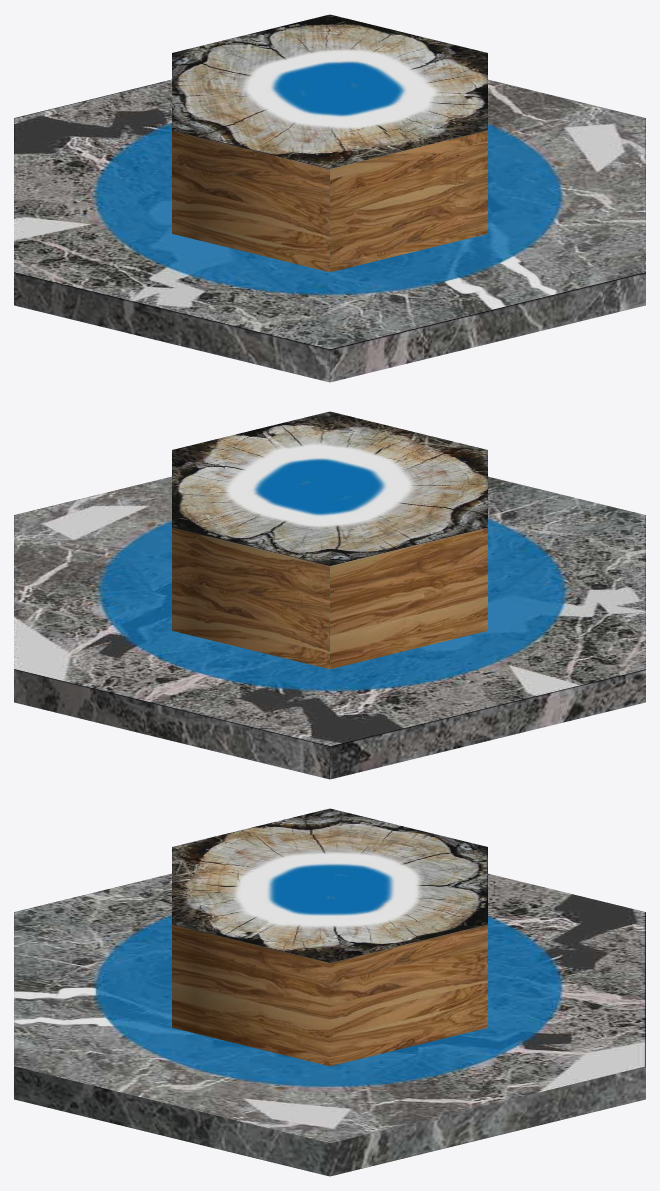
The model's file is BaseBlue.FBX.
3 renders of one model, top to bottom at view 1: azimuth 30°, elevation 25°; view 2: azimuth 150°, elevation 25°; view 3: azimuth 270°, elevation 25°, orthographic.
Visible parts, largest first — view 1: Cylinder001, Cylinder002; view 2: Cylinder001, Cylinder002; view 3: Cylinder001, Cylinder002.
Part boxes in pixels (box(x1,y1,x2,y2)): Cylinder001: box(14, 79, 645, 382); Cylinder002: box(172, 14, 487, 272); Cylinder001: box(14, 476, 645, 779); Cylinder002: box(172, 411, 487, 669); Cylinder001: box(14, 873, 645, 1176); Cylinder002: box(172, 808, 487, 1066).
Bounding box in the file's own units: 60 × 51.96 × 12.4.
Materials: 2 (2 with a texture image).
